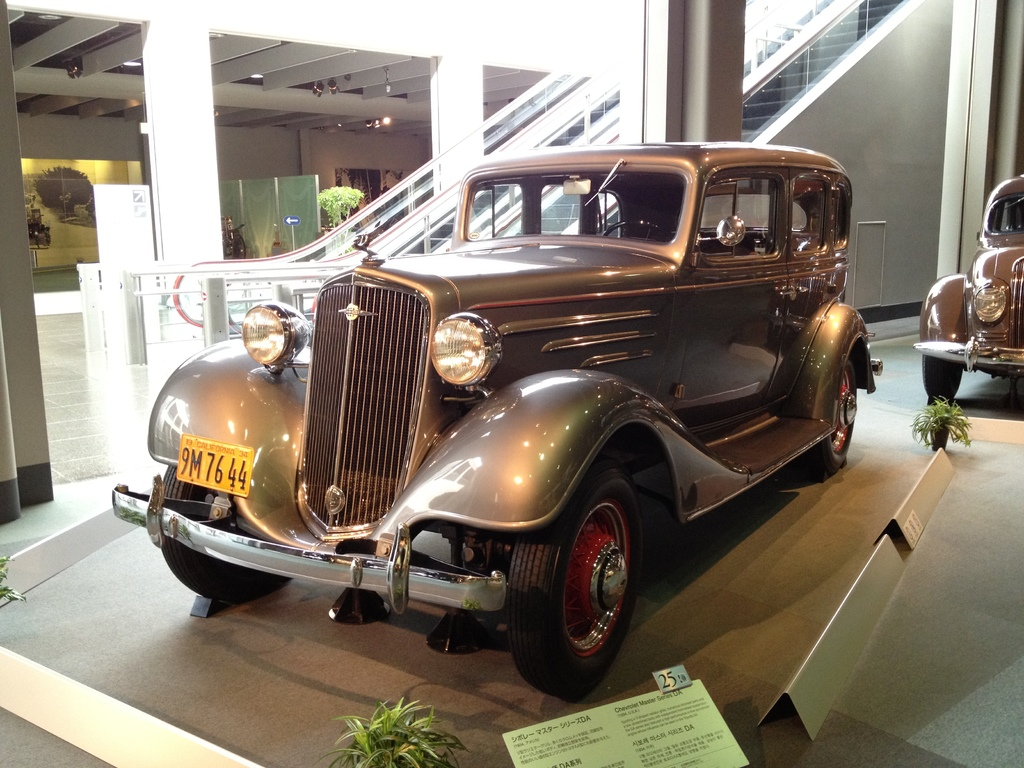Car: (113, 142, 883, 703), (910, 174, 1023, 404)
